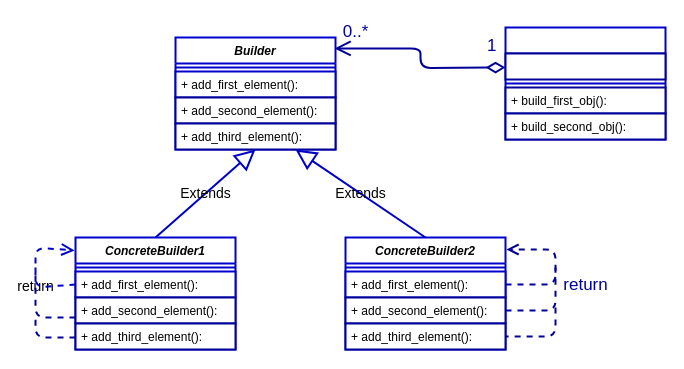
Image size: 684x369. Some labels were removed from this diagram. The box of each missing label's shape, as (x1, y1, x2, y2) in pixels:
- __builder: (504, 52, 666, 80)
Director: (504, 26, 666, 140)
